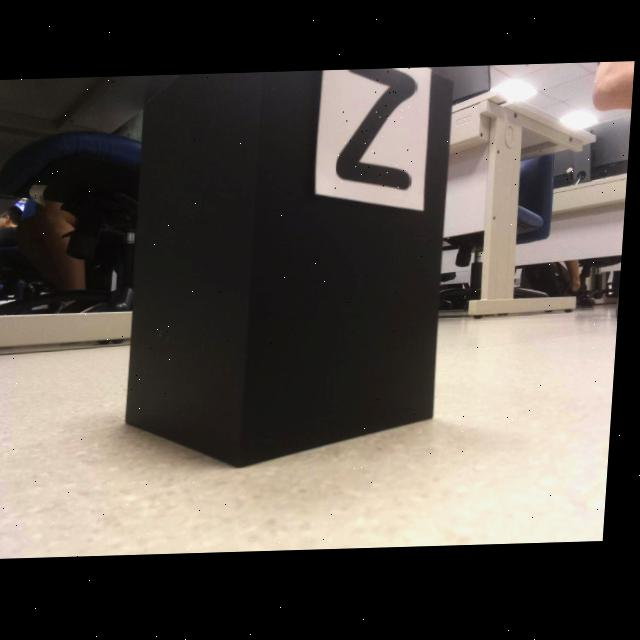Z: (339, 71, 418, 192)
